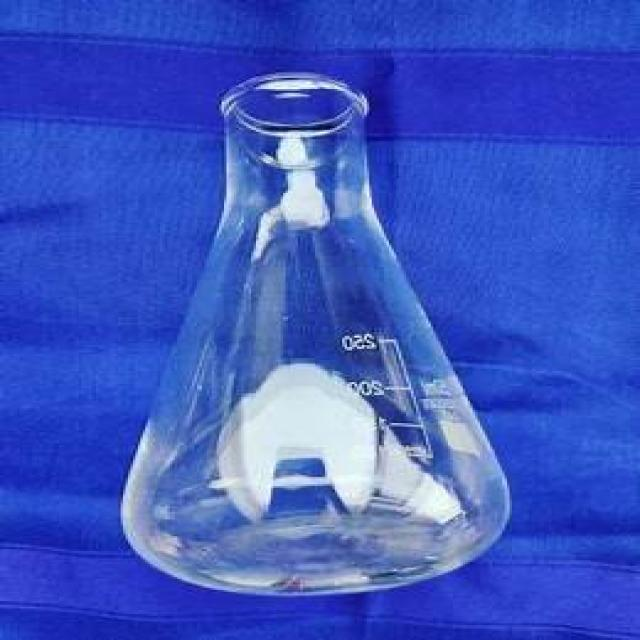Titrarion: (120, 63, 520, 594)
